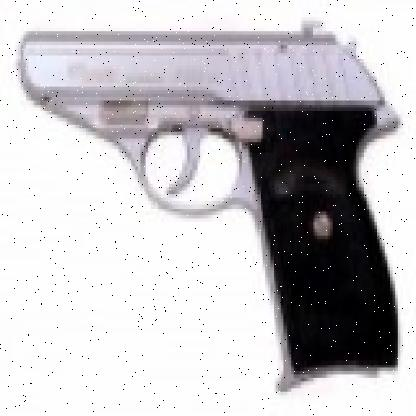pistol: (21, 24, 401, 402)
